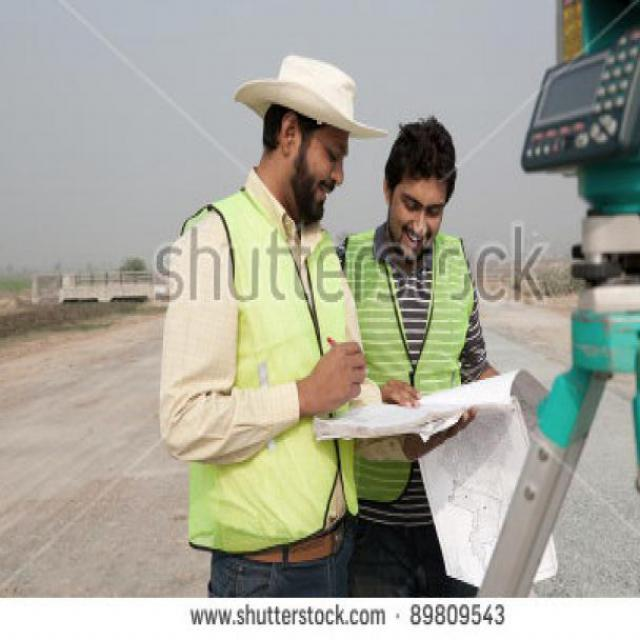vest: (196, 191, 360, 513), (336, 231, 480, 407)
